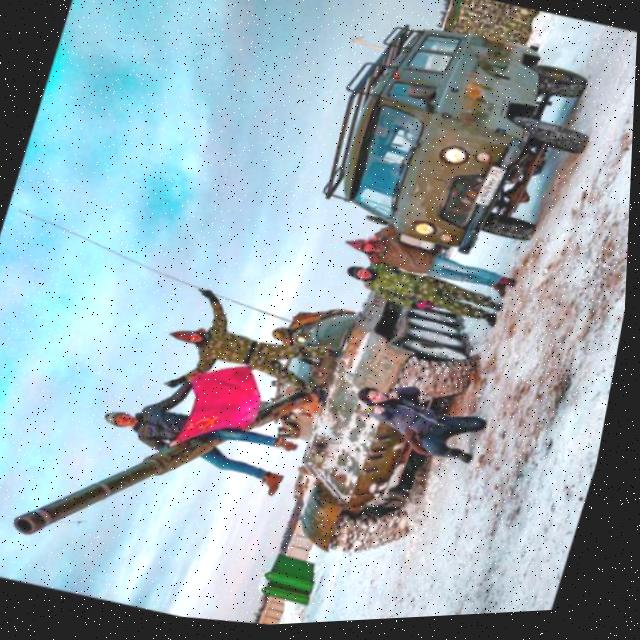rocket: (6, 332, 318, 596)
